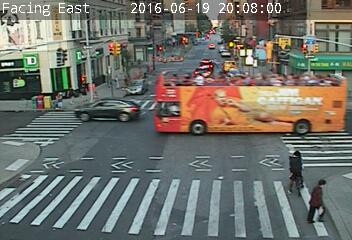neg: (157, 162, 178, 190), (50, 158, 71, 185), (210, 87, 230, 113), (163, 96, 182, 121), (81, 72, 99, 96), (34, 87, 52, 111), (320, 105, 338, 129), (72, 121, 88, 142), (231, 105, 247, 126), (192, 113, 207, 133)
pos: (303, 177, 336, 222), (278, 151, 310, 193)
